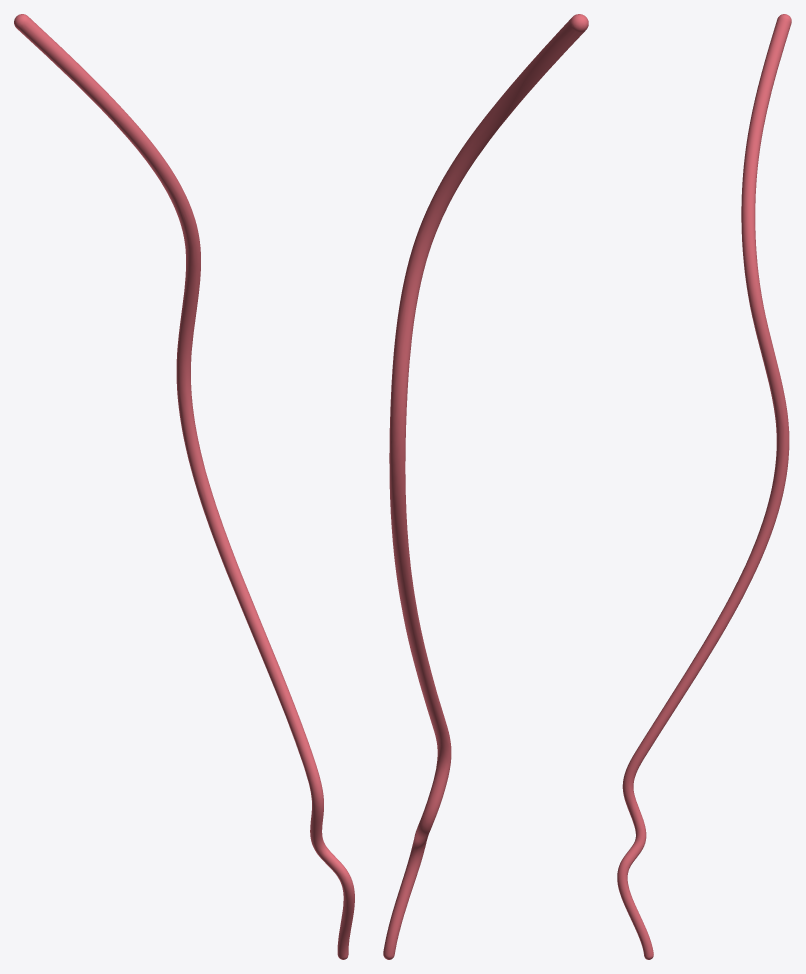
File: fma66626_fj2242.glb
The picture shows the model from 3 angles, left to right: view 1: azimuth 30°, elevation 25°; view 2: azimuth 150°, elevation 25°; view 3: azimuth 270°, elevation 25°; orthographic projection. The views are drawn at different scales.
Parts seen in each view (by area): view 1: FMA66626_FJ2242; view 2: FMA66626_FJ2242; view 3: FMA66626_FJ2242.
Part boxes in pixels (left/top/right/bottom): FMA66626_FJ2242: left=14, top=14, right=354, bottom=959; FMA66626_FJ2242: left=383, top=14, right=588, bottom=959; FMA66626_FJ2242: left=617, top=14, right=791, bottom=959.
Bounding box in the file's own units: 0.0659 × 0.2333 × 0.044.
